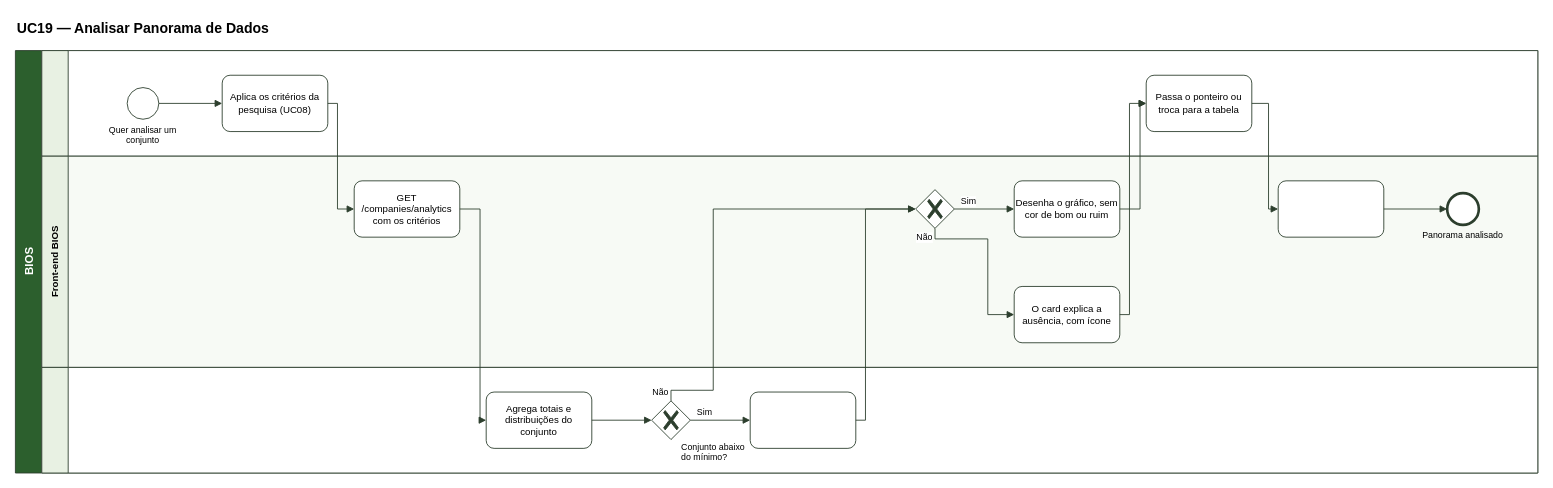
The diagram is 1553 pixels wide and 488 high, and some of its shapes have lost their labels. The shapes that lost their labels are listed below. From the top down, each one's box as (x1, y1, x2, y2) in pixels, then its label:
(41, 50, 1538, 156): Usuário
(915, 189, 954, 228): Dimensão com dados?
(1277, 180, 1384, 237): Mostra a dica em frase ou a tabela com os mesmos números
(41, 367, 1538, 473): bios-core-api
(749, 391, 856, 448): Omite médias e faixas, mantém as contagens
